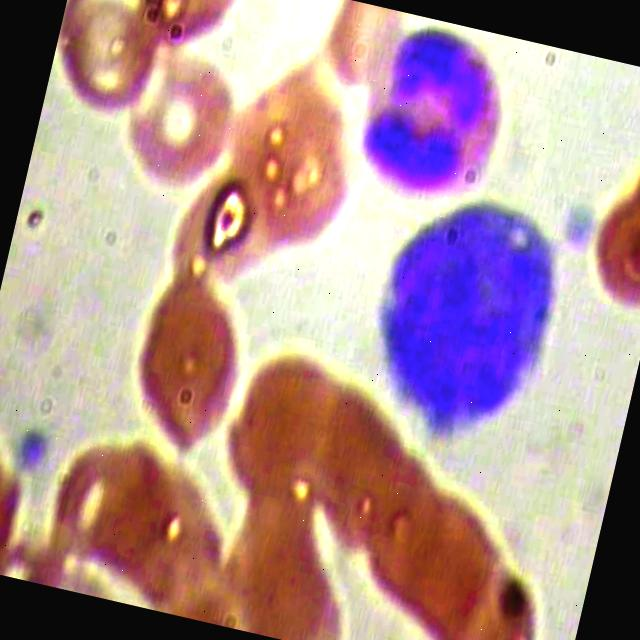Platelets: (552, 190, 604, 256), (2, 414, 54, 480)
RBC: (91, 242, 267, 460), (218, 86, 368, 270), (113, 41, 257, 222), (207, 476, 334, 638), (350, 448, 470, 616), (308, 396, 428, 564), (36, 0, 171, 149), (387, 484, 507, 640), (73, 438, 189, 597), (33, 426, 138, 584), (414, 514, 532, 640), (567, 176, 640, 342), (111, 0, 245, 69), (447, 563, 557, 640), (604, 85, 640, 249)
WBC: (331, 175, 578, 456), (342, 6, 530, 210)
